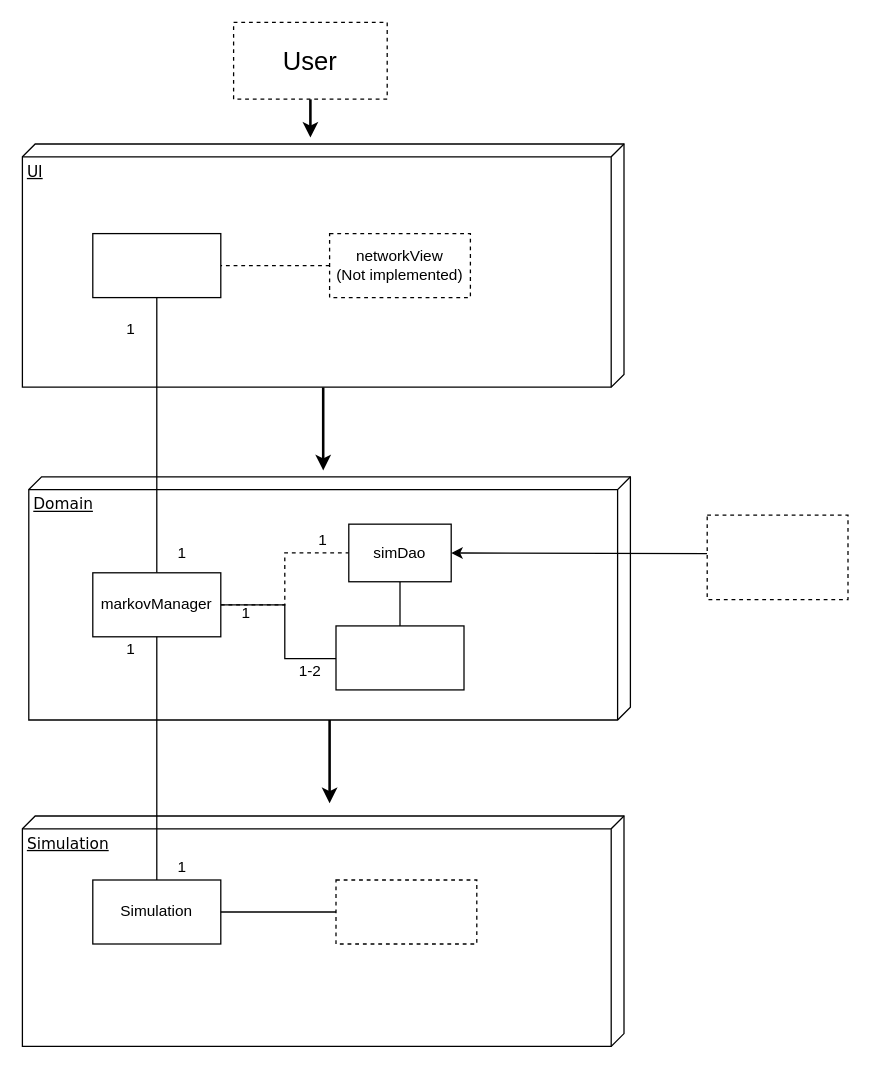
Image size: 870x1069. Some labels were removed from this diagram. The centre of each missing label's shape, as x and y in pixels:
"Data" belongs at (777,557).
"markovUi" belongs at (156,265).
"SimDescriptor" belongs at (399,657).
"simEditor (not implemented)" belongs at (406,911).
